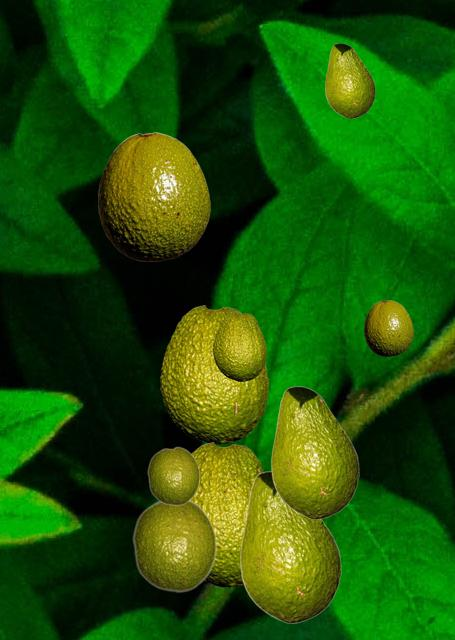avocado: (240, 471, 340, 622), (160, 305, 267, 443), (98, 132, 209, 260), (271, 386, 358, 518), (191, 442, 263, 586), (132, 500, 216, 592), (325, 43, 374, 117), (213, 312, 265, 380), (147, 446, 199, 505), (364, 300, 412, 355)
